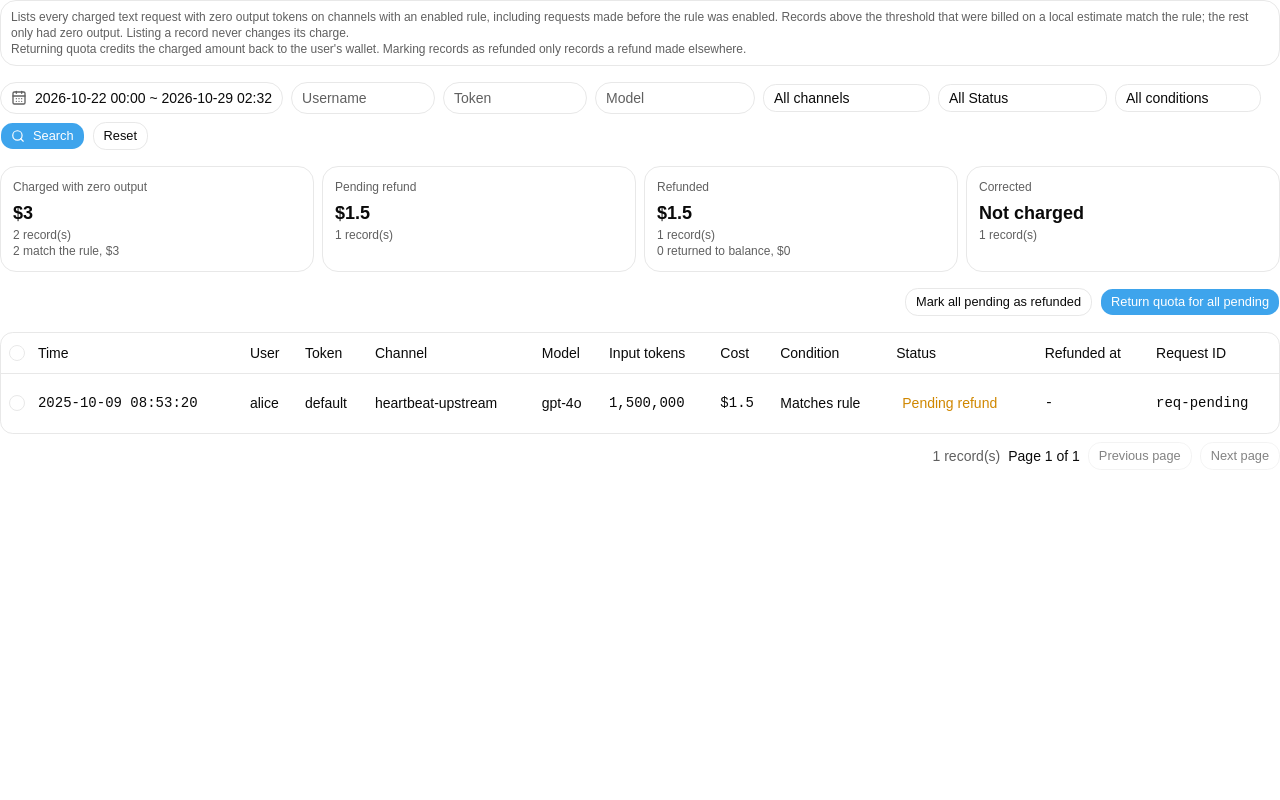
Scenario: billing correction records panel › warns when records without a request id were skipped
Click the button "Mark all pending as refunded": [998, 302] box top-left (905, 288), bottom-right (1092, 316)
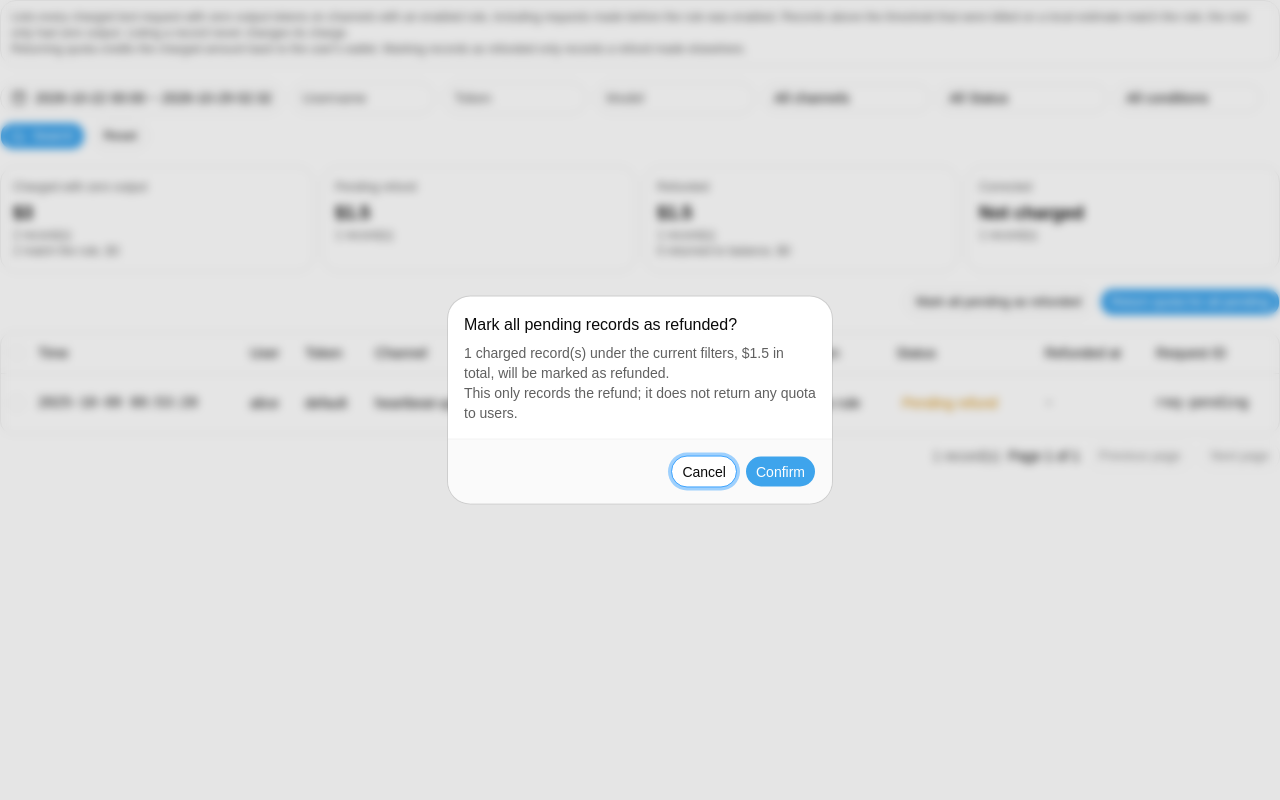
Click the button "Confirm": [780, 472] box top-left (745, 456), bottom-right (816, 488)
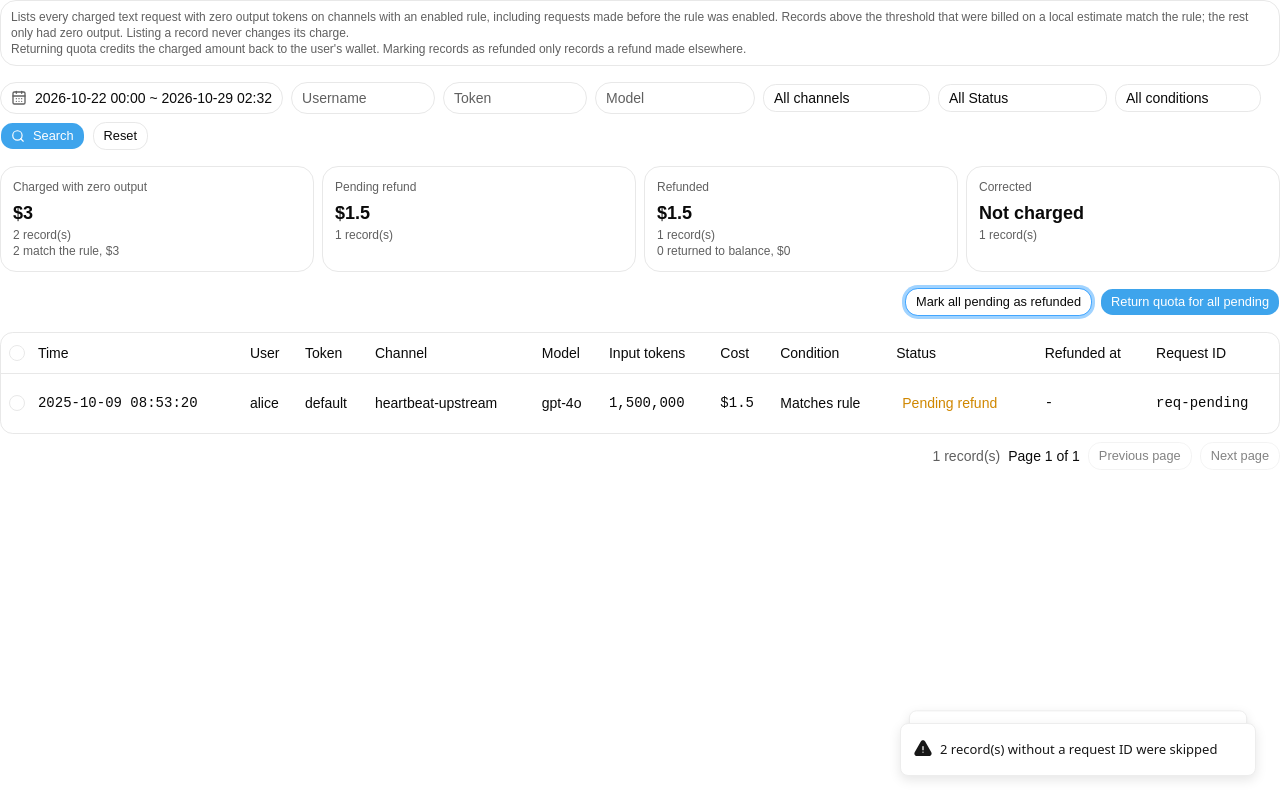
Expected: the text "2 record(s) without a request ID were skipped" is shown, top-left (940, 740), bottom-right (1217, 759)
